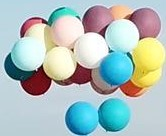Balloon: (74, 31, 109, 68), (105, 19, 140, 53), (45, 46, 78, 81), (65, 102, 99, 135), (11, 37, 45, 70), (101, 52, 133, 85), (99, 98, 130, 132), (135, 38, 166, 71), (50, 16, 83, 47)
